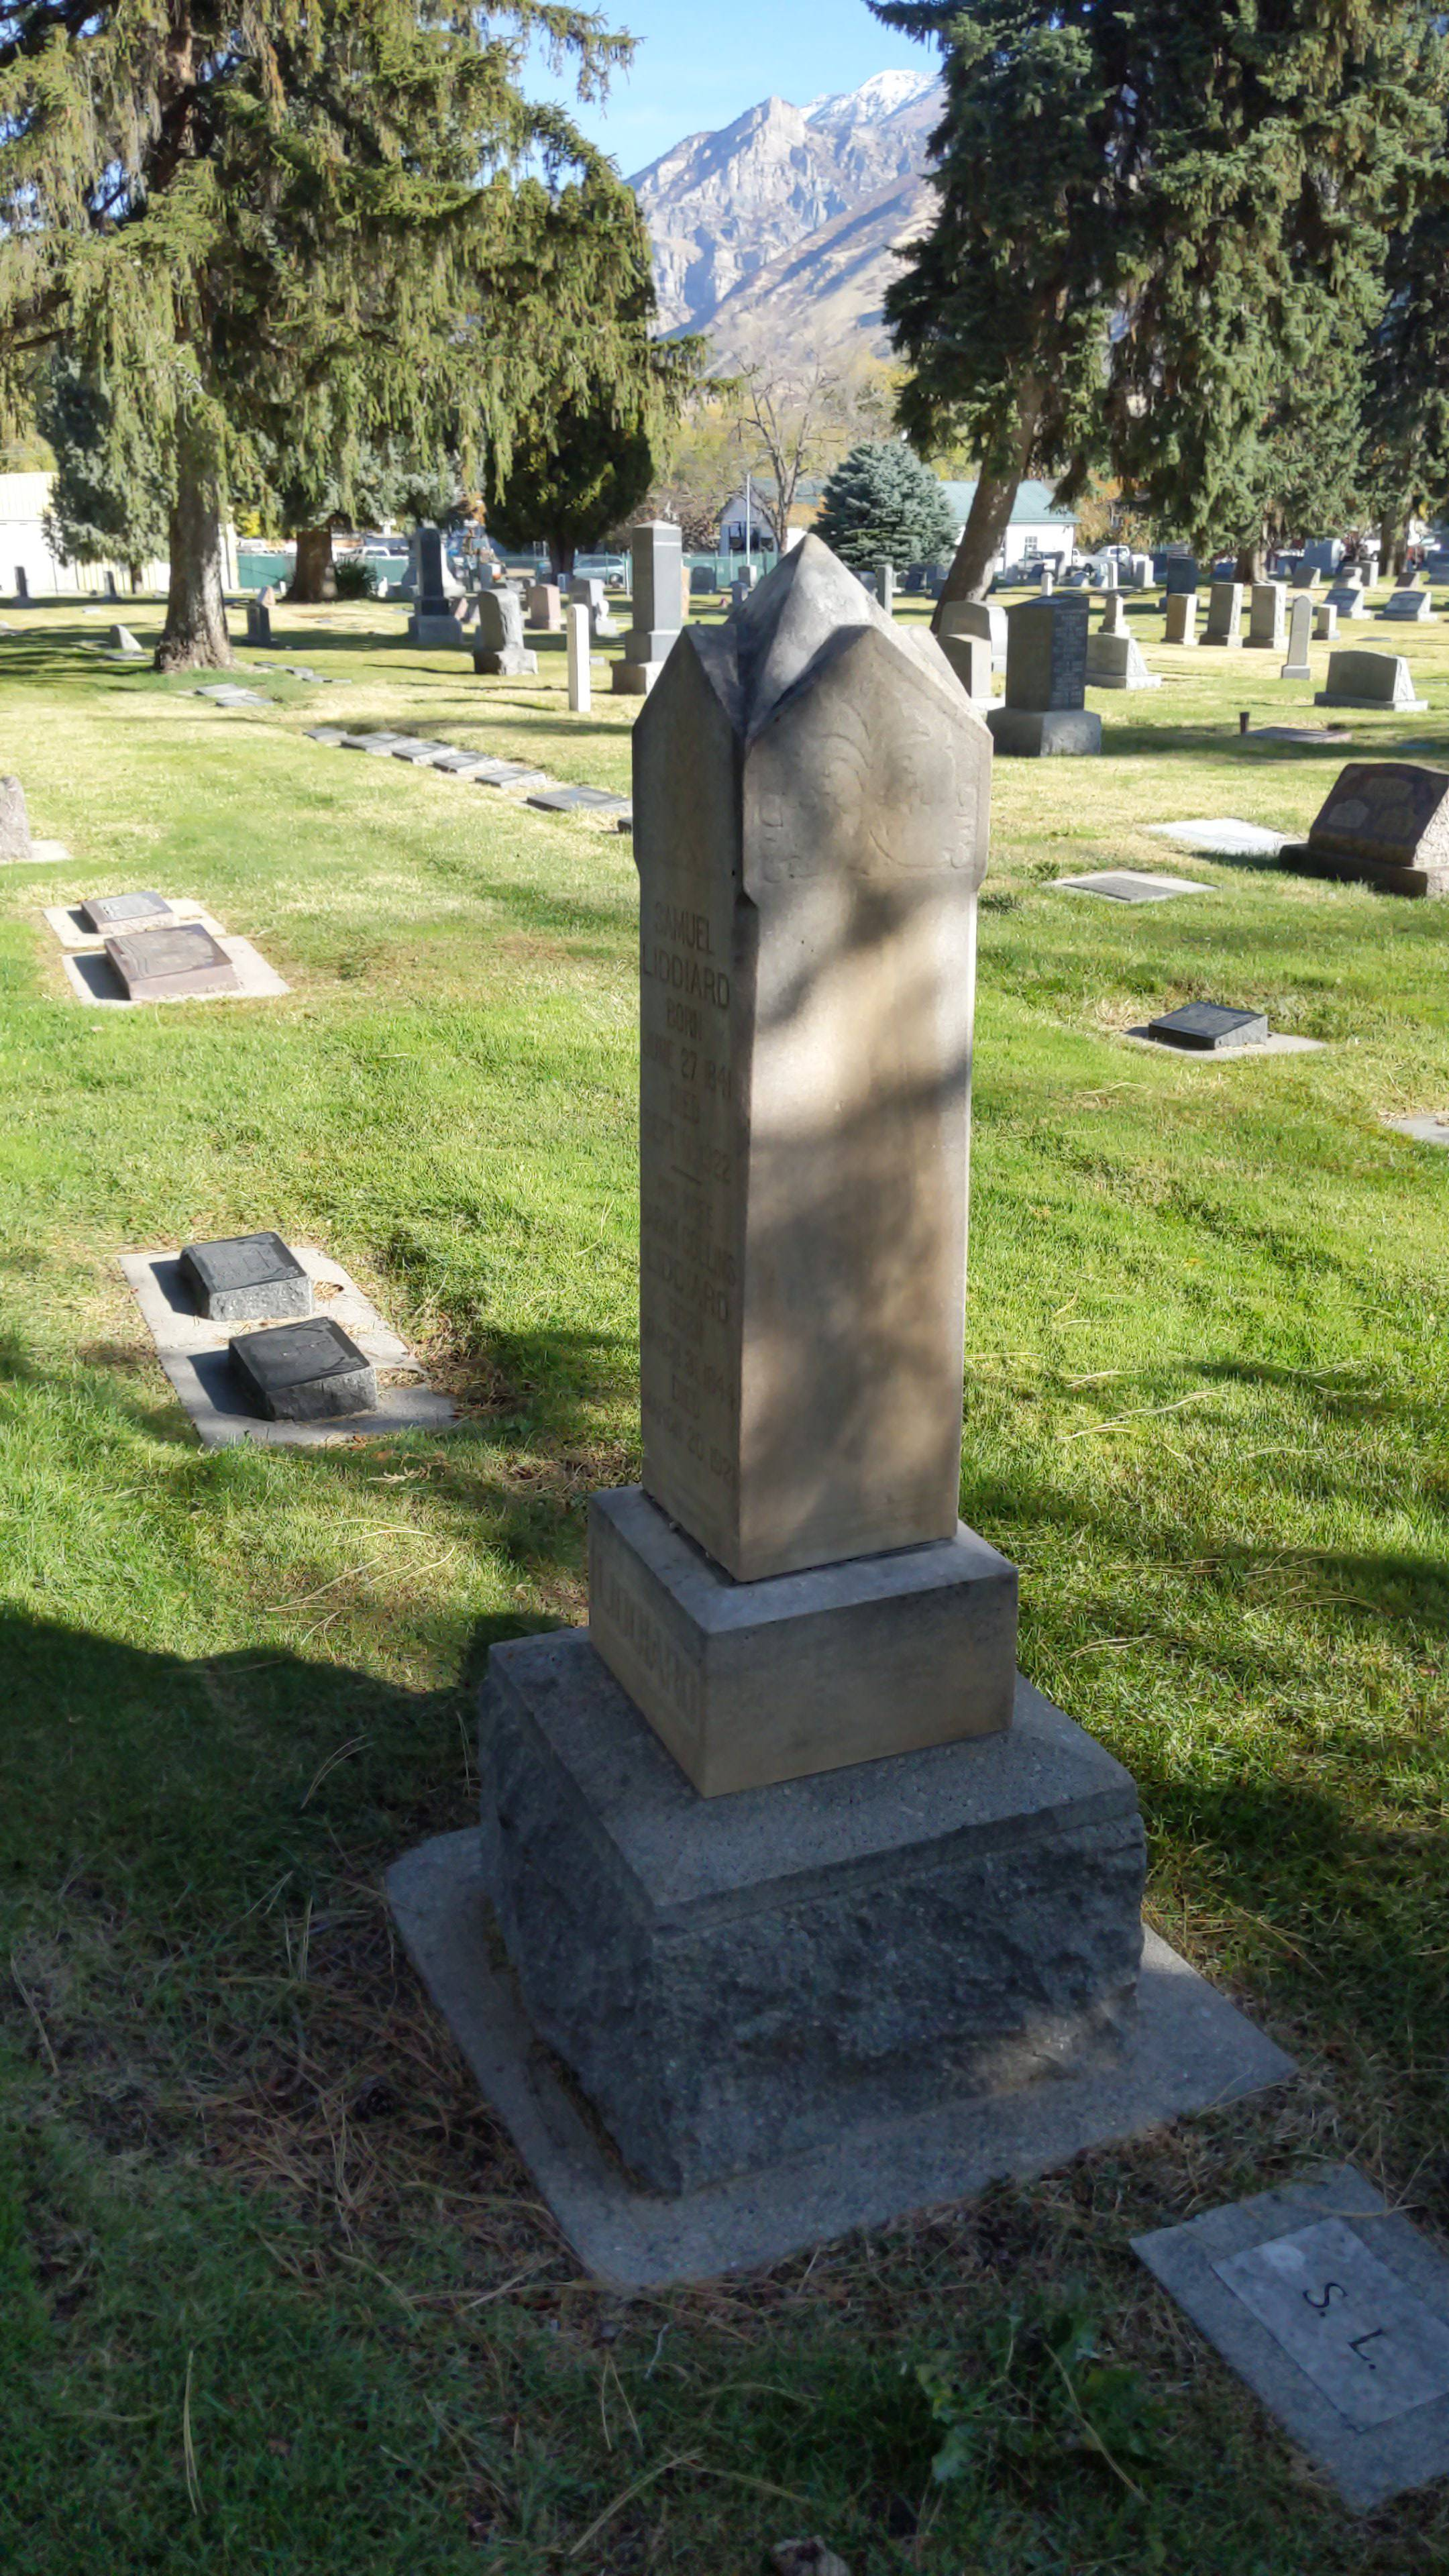obelisk: (593, 525, 1010, 1810)
